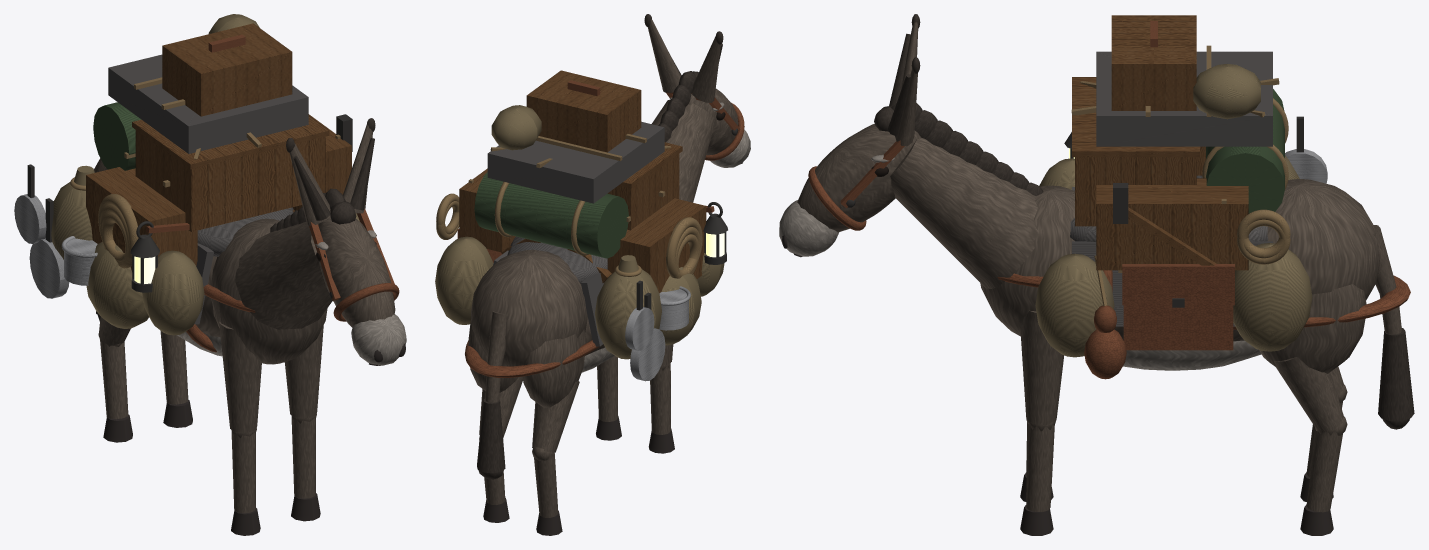
Rendered from burro_carga.glb.
3 renders of one model, left to right at view 1: azimuth 30°, elevation 25°; view 2: azimuth 150°, elevation 25°; view 3: azimuth 270°, elevation 25°, orthographic. The views are drawn at different scales.
Parts seen in each view (by area): view 1: BUR_Caja_Grande, BUR_Caja_Pequena, BUR_Manta_Doblada, BUR_Cuello, BUR_Pecho, BUR_Cabeza, BUR_Caja_Lat_I, BUR_Saco_I_C, BUR_Saco_I_B, BUR_Brazo_I, BUR_Caja_Grande_Tapa, BUR_Manta_Enrollada (+32 smaller); view 2: BUR_Grupa, BUR_Manta_Enrollada, BUR_Manta_Doblada, BUR_Caja_Pequena, BUR_Caja_Lat_I, BUR_Saco_D_A, BUR_Saco_I_A, BUR_Muslo_I, BUR_Cuello, BUR_Caja_Grande, BUR_Saco_Arriba, BUR_Cola_Borla (+33 smaller); view 3: BUR_Cuello, BUR_Caja_Lat_D, BUR_Manta_Doblada, BUR_Grupa, BUR_Caja_Pequena, BUR_Saco_D_A, BUR_Cabeza, BUR_Saco_D_B, BUR_Morral, BUR_Pecho, BUR_Morral_Solapa, BUR_Muslo_D (+26 smaller).
Boxes of the visible parts, <box> form: BUR_Caja_Grande: <box>135,130,325,231</box>; BUR_Caja_Pequena: <box>162,23,292,116</box>; BUR_Manta_Doblada: <box>108,54,308,153</box>; BUR_Cuello: <box>235,222,332,329</box>; BUR_Pecho: <box>211,218,327,364</box>; BUR_Cabeza: <box>318,217,395,327</box>; BUR_Caja_Lat_I: <box>86,167,197,271</box>; BUR_Saco_I_C: <box>142,250,204,335</box>; BUR_Saco_I_B: <box>86,242,148,328</box>; BUR_Brazo_I: <box>219,322,261,432</box>; BUR_Caja_Grande_Tapa: <box>132,116,329,169</box>; BUR_Manta_Enrollada: <box>93,102,140,170</box>; BUR_Grupa: <box>471,249,587,366</box>; BUR_Manta_Enrollada: <box>474,172,628,258</box>; BUR_Manta_Doblada: <box>487,121,664,203</box>; BUR_Caja_Pequena: <box>526,70,641,152</box>; BUR_Caja_Lat_I: <box>607,198,706,293</box>; BUR_Saco_D_A: <box>435,236,493,324</box>; BUR_Saco_I_A: <box>595,269,661,359</box>; BUR_Muslo_I: <box>522,329,586,407</box>; BUR_Cuello: <box>651,99,715,202</box>; BUR_Caja_Grande: <box>607,154,679,230</box>; BUR_Saco_Arriba: <box>491,105,541,150</box>; BUR_Cola_Borla: <box>477,398,505,473</box>; BUR_Cuello: <box>890,138,1038,288</box>; BUR_Caja_Lat_D: <box>1096,178,1248,270</box>; BUR_Manta_Doblada: <box>1096,51,1272,146</box>; BUR_Grupa: <box>1267,179,1379,300</box>; BUR_Caja_Pequena: <box>1111,15,1196,110</box>; BUR_Saco_D_A: <box>1233,243,1312,351</box>; BUR_Cabeza: <box>797,124,921,232</box>; BUR_Saco_D_B: <box>1035,253,1114,357</box>; BUR_Morral: <box>1123,305,1233,350</box>; BUR_Pecho: <box>980,185,1074,336</box>; BUR_Morral_Solapa: <box>1122,264,1234,305</box>; BUR_Muslo_D: <box>1259,284,1366,373</box>.
Size of the model in its own units: 1.1 by 1.76 by 2.09.
Materials: 122 (99 with a texture image).
